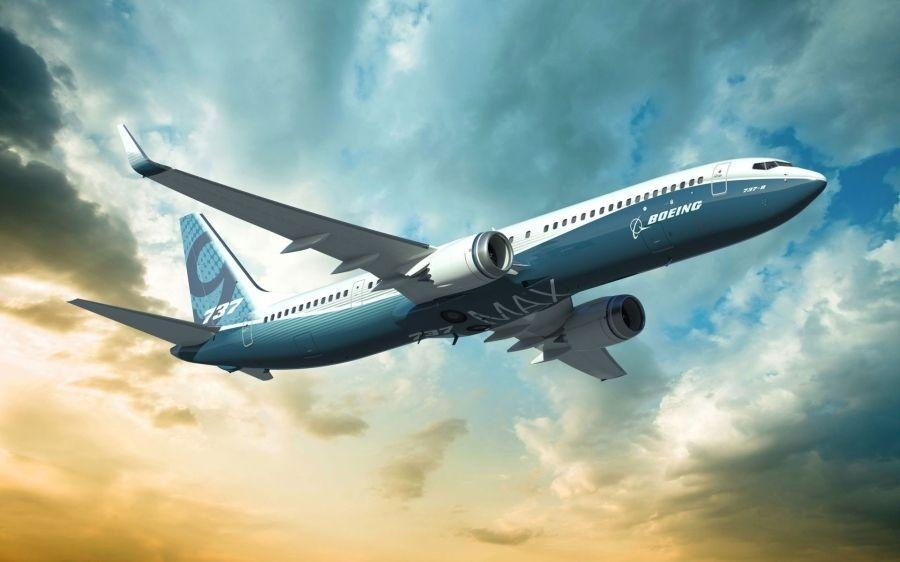airplane: (66, 113, 831, 382)
